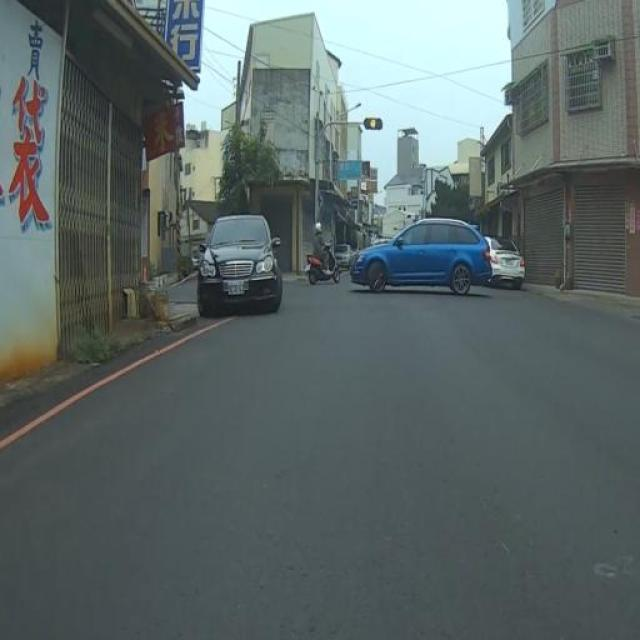illegalparking: (178, 202, 294, 341)
